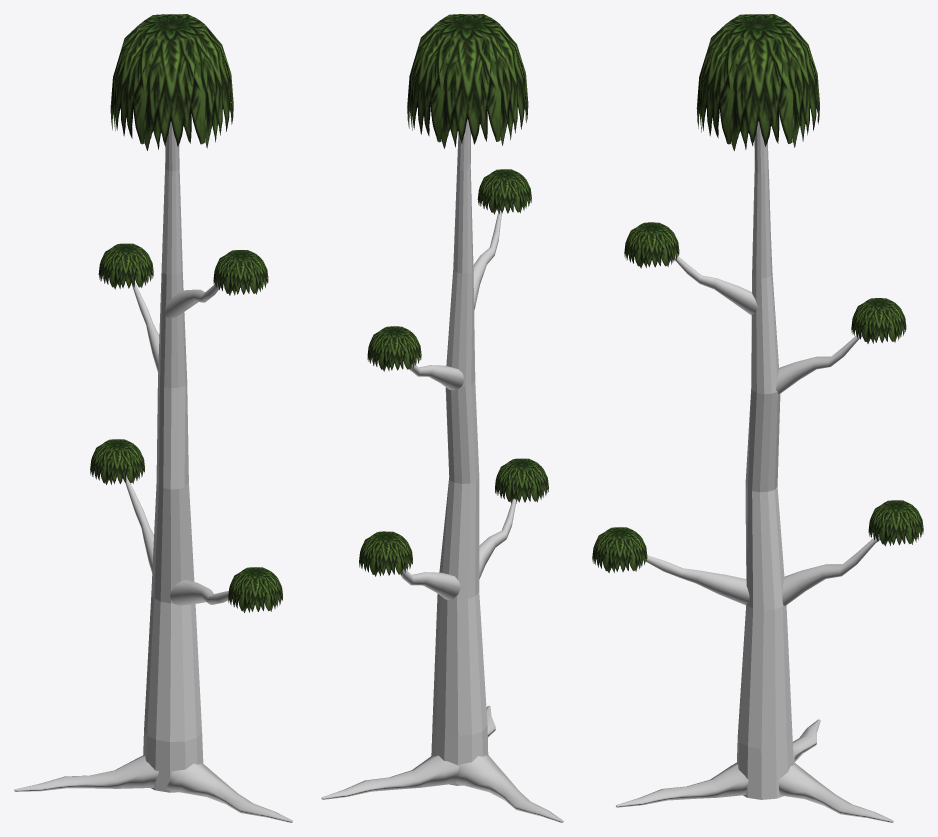
The model's file is arbol_background.fbx.
3 renders of one model, left to right at view 1: azimuth 30°, elevation 25°; view 2: azimuth 150°, elevation 25°; view 3: azimuth 270°, elevation 25°, orthographic.
Parts seen in each view (by area): view 1: polySurface72, polySurface81, polySurface75, polySurface71, polySurface79, polySurface82, polySurface83, polySurface80, polySurface73, polySurface78, polySurface74, polySurface77; view 2: polySurface72, polySurface81, polySurface71, polySurface76, polySurface79, polySurface80, polySurface82, polySurface83, polySurface74, polySurface77, polySurface73, polySurface78; view 3: polySurface72, polySurface81, polySurface75, polySurface76, polySurface80, polySurface83, polySurface82, polySurface79, polySurface73, polySurface74, polySurface77, polySurface78.
Boxes of the visible parts, x1,y1,x2,y2 form: polySurface72: (143,121,203,792); polySurface81: (110,14,233,150); polySurface75: (165,763,292,822); polySurface71: (14,755,158,791); polySurface79: (98,243,153,289); polySurface82: (228,567,282,612); polySurface83: (90,439,144,484); polySurface80: (213,250,268,295); polySurface73: (170,580,228,605); polySurface78: (165,282,220,317); polySurface74: (125,475,153,573); polySurface77: (131,283,159,372); polySurface72: (431,119,488,785); polySurface81: (407,14,528,148); polySurface71: (456,755,563,822); polySurface76: (321,755,459,799); polySurface79: (367,326,421,371); polySurface80: (477,169,531,214); polySurface82: (495,458,548,503); polySurface83: (359,531,412,576); polySurface74: (400,569,460,600); polySurface77: (410,364,464,390); polySurface73: (479,498,517,578); polySurface78: (473,210,501,309); polySurface72: (736,121,793,799); polySurface81: (696,14,819,150); polySurface75: (616,762,748,807); polySurface76: (778,762,893,822); polySurface80: (624,222,679,268); polySurface83: (868,500,923,546); polySurface82: (592,527,647,572); polySurface79: (851,298,906,343); polySurface73: (643,555,749,605); polySurface74: (782,535,879,605); polySurface77: (776,332,862,394); polySurface78: (674,254,758,315).
Size of the model in its own units: 14.2 by 49.45 by 19.48.
